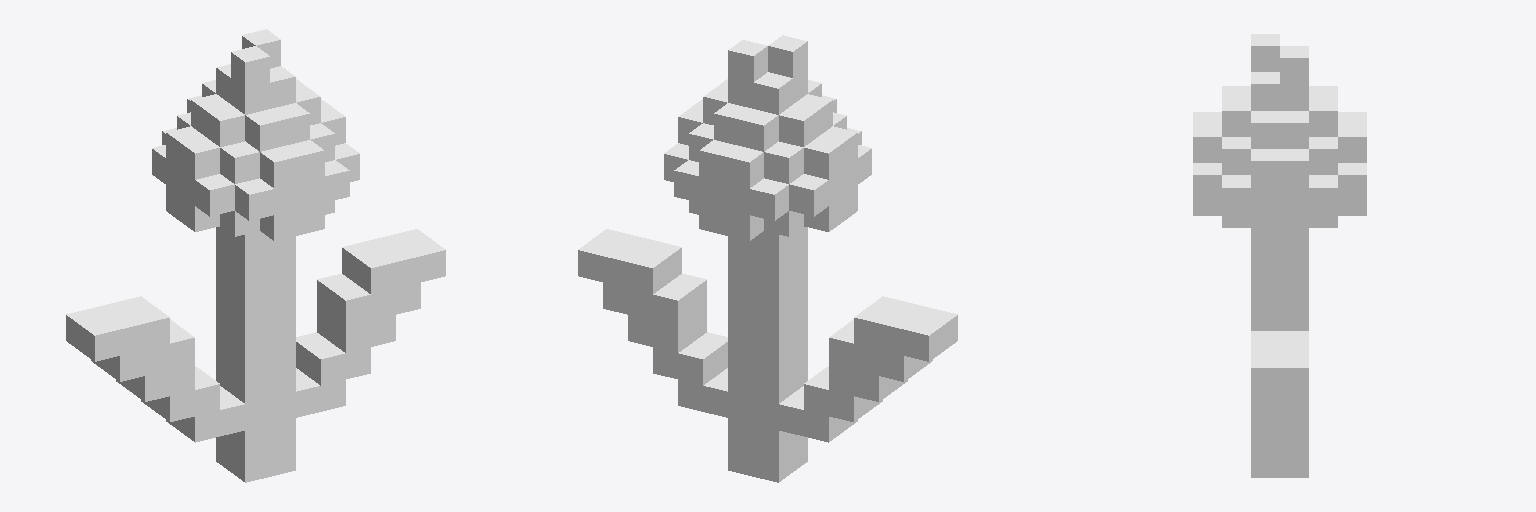
The model's file is dahlia3.obj.
3 renders of one model, left to right at view 1: azimuth 30°, elevation 25°; view 2: azimuth 150°, elevation 25°; view 3: azimuth 270°, elevation 25°, orthographic.
Parts seen in each view (by area): view 1: object 1; view 2: object 1; view 3: object 1.
Boxes of the visible parts, x1=… form: object 1: x1=66, y1=29, x2=445, y2=482; object 1: x1=578, y1=35, x2=957, y2=482; object 1: x1=1193, y1=34, x2=1366, y2=477.
Size of the model in its own units: 1.4 by 1.6 by 0.6.